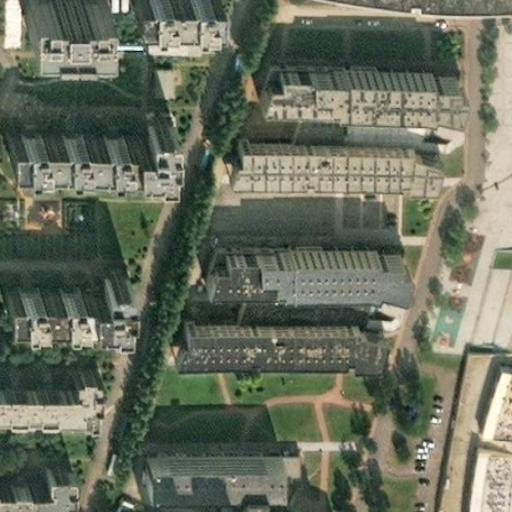building: (198, 228, 395, 267), (249, 56, 446, 94), (171, 299, 374, 335), (222, 126, 425, 162), (8, 105, 161, 149), (230, 263, 356, 305), (281, 90, 407, 132), (2, 258, 117, 304), (135, 436, 270, 468), (0, 354, 94, 399), (470, 447, 512, 511), (481, 363, 512, 442), (0, 456, 61, 495), (202, 485, 285, 512), (17, 0, 94, 16), (222, 467, 257, 499), (270, 436, 291, 466)
